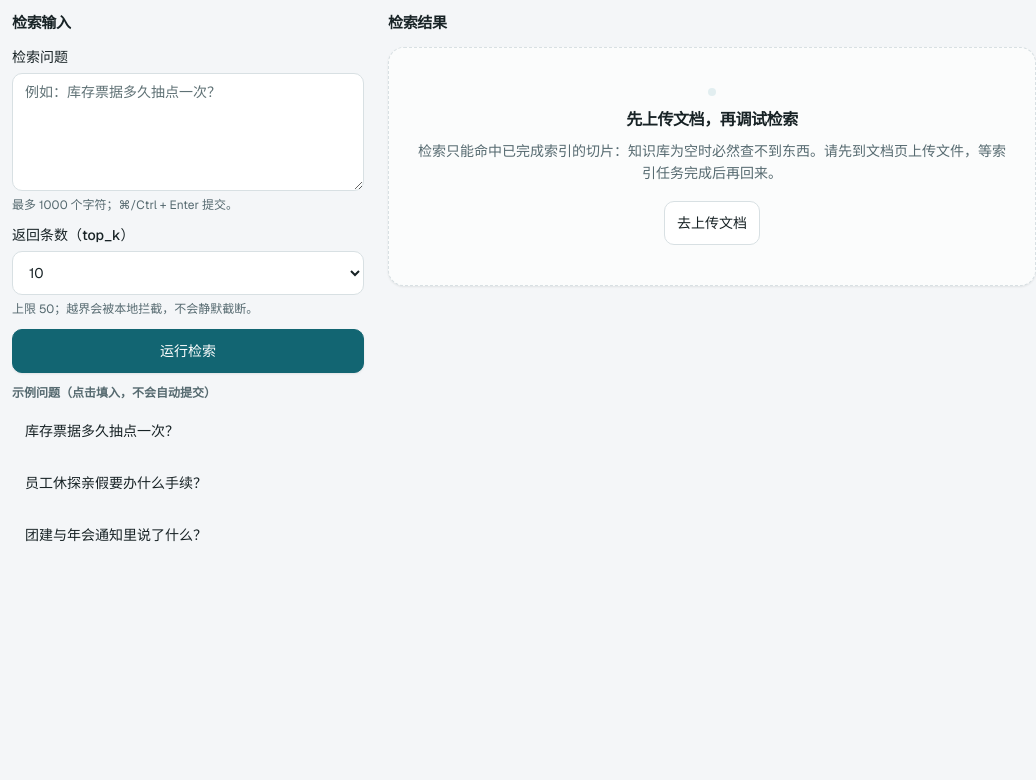
features/query/QueryConsole › 空查询在本地拦下，不发请求也不进入加载态
Click the button "运行检索".
click(188, 350)  # box left=12, top=328, right=364, bottom=372
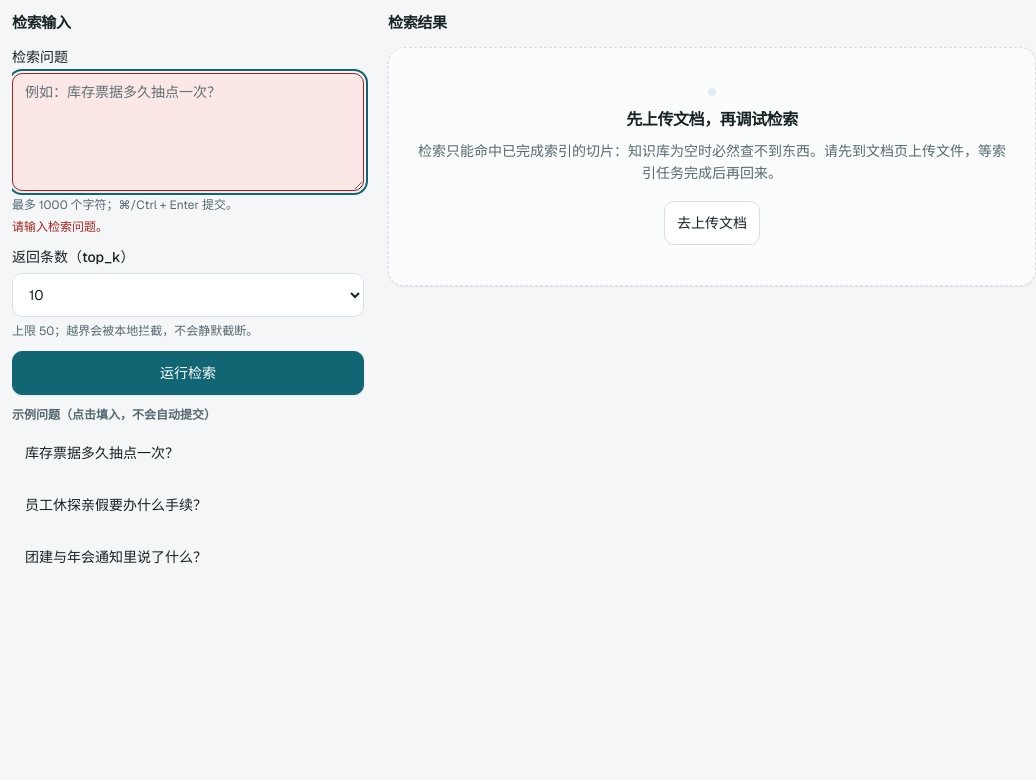
Result: the message reads "请输入检索问题。" at left=12, top=218, right=108, bottom=234
